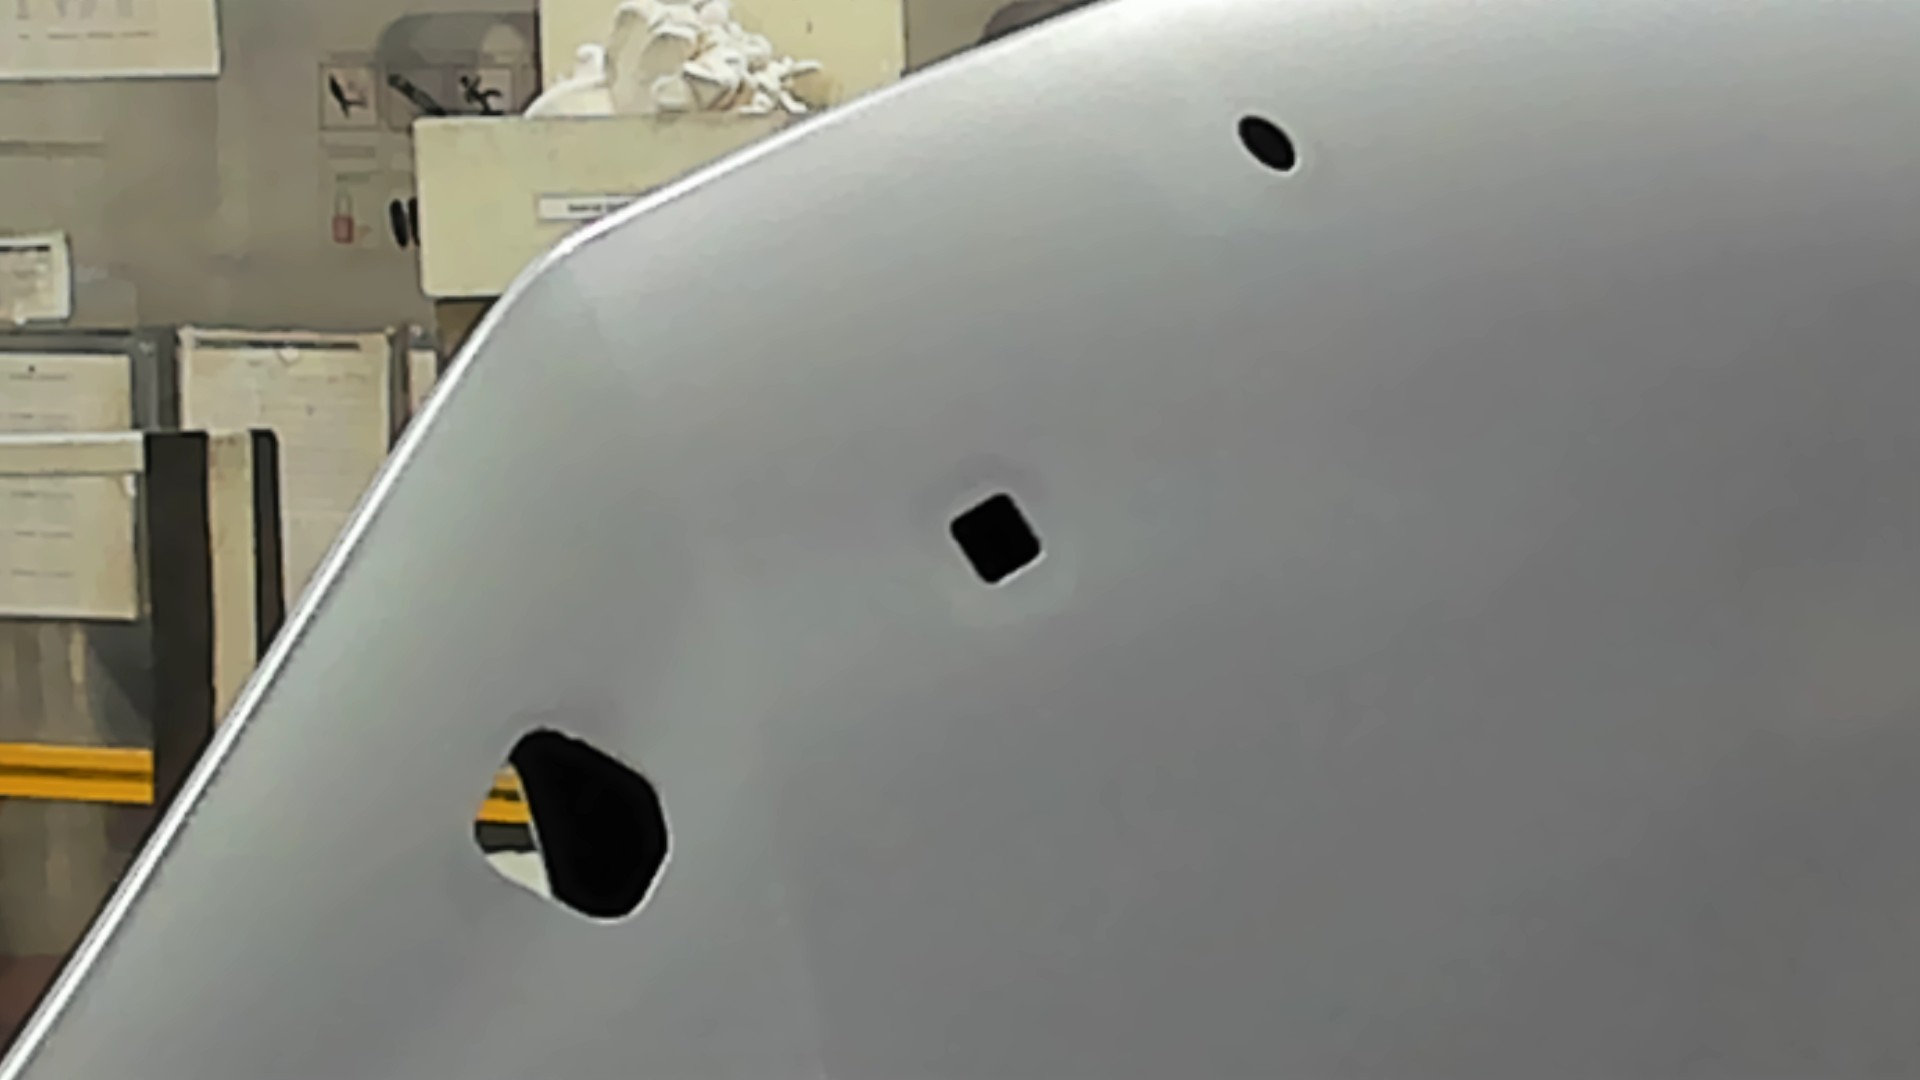chico: (1234, 109, 1302, 177)
grande: (468, 723, 678, 931)
mediano: (943, 487, 1050, 588)
